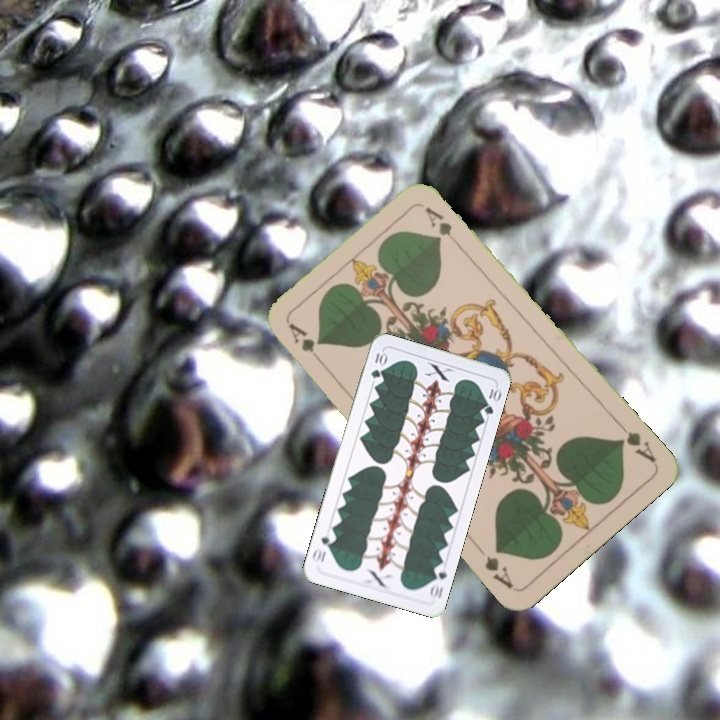G10: (426, 560, 449, 602), (367, 348, 389, 381)
GA: (613, 418, 659, 466), (285, 319, 328, 369)
